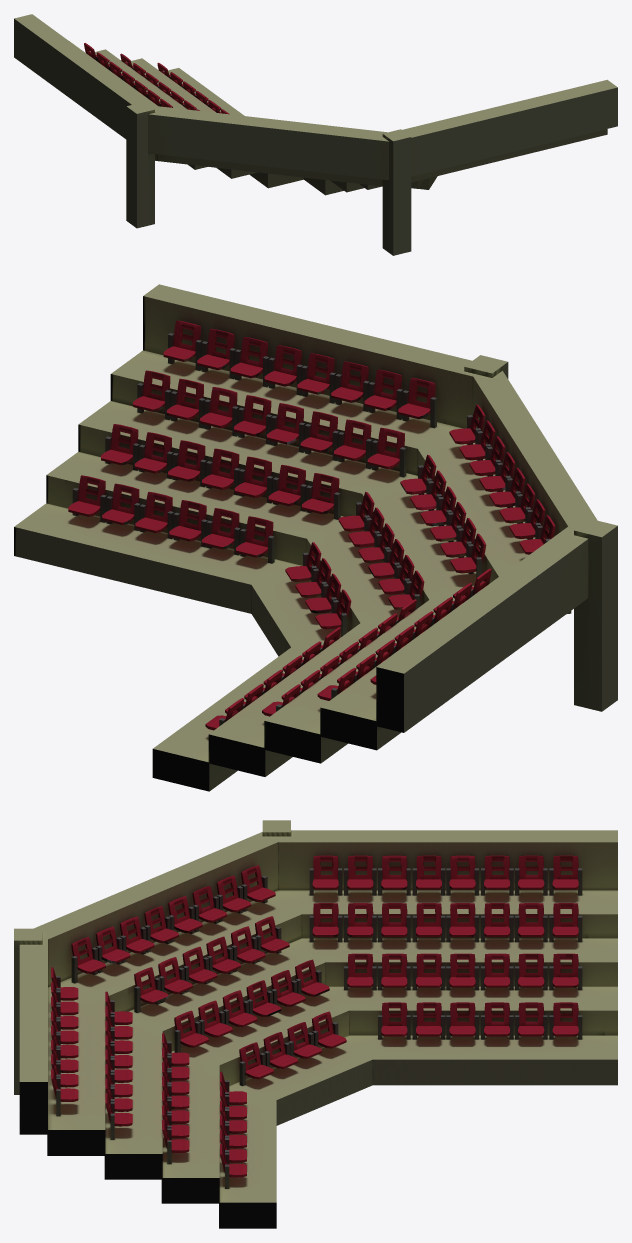
Rendered from stadium.dae.
3 views of the same model, one above another, from view 1: azimuth 30°, elevation 25°; view 2: azimuth 150°, elevation 25°; view 3: azimuth 270°, elevation 25° (orthographic). The views are drawn at different scales.
Parts seen in each view (by area): view 1: corner_011; view 2: corner_011; view 3: corner_011.
Part boxes in pixels (left/top/right/bottom): corner_011: left=14, top=14, right=617, bottom=255; corner_011: left=14, top=284, right=617, bottom=791; corner_011: left=14, top=820, right=617, bottom=1228.
Bounding box in the file's own units: 42.89 × 42.5 × 12.
1 material, 1 textured.
